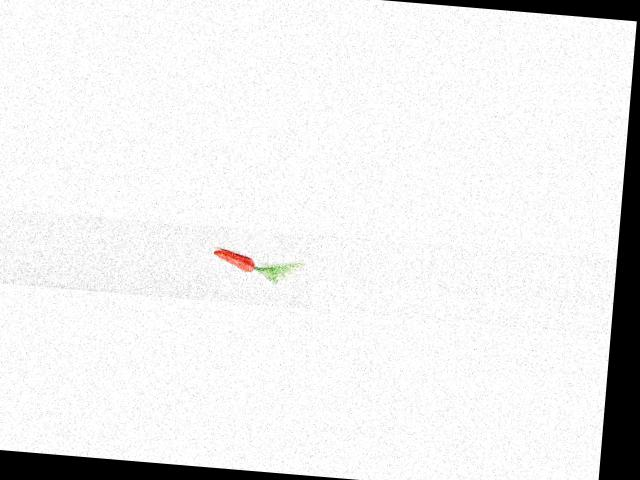carrot: (209, 240, 259, 274)
